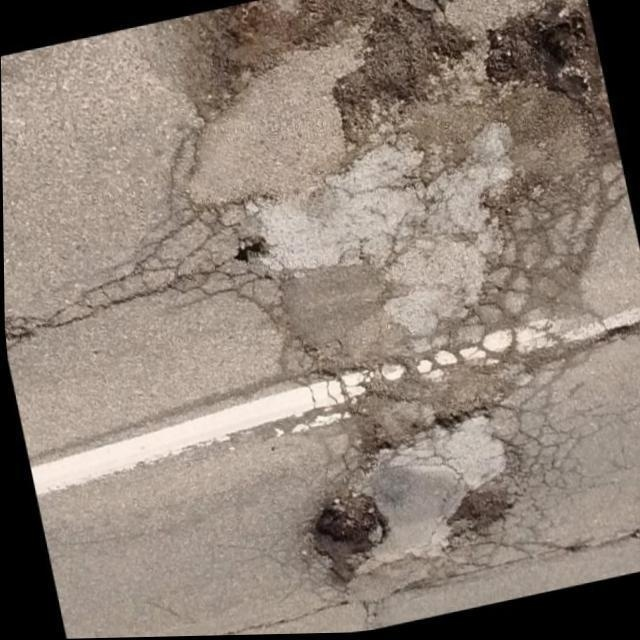pothole: (486, 10, 595, 107), (300, 498, 388, 590), (446, 478, 520, 550)
